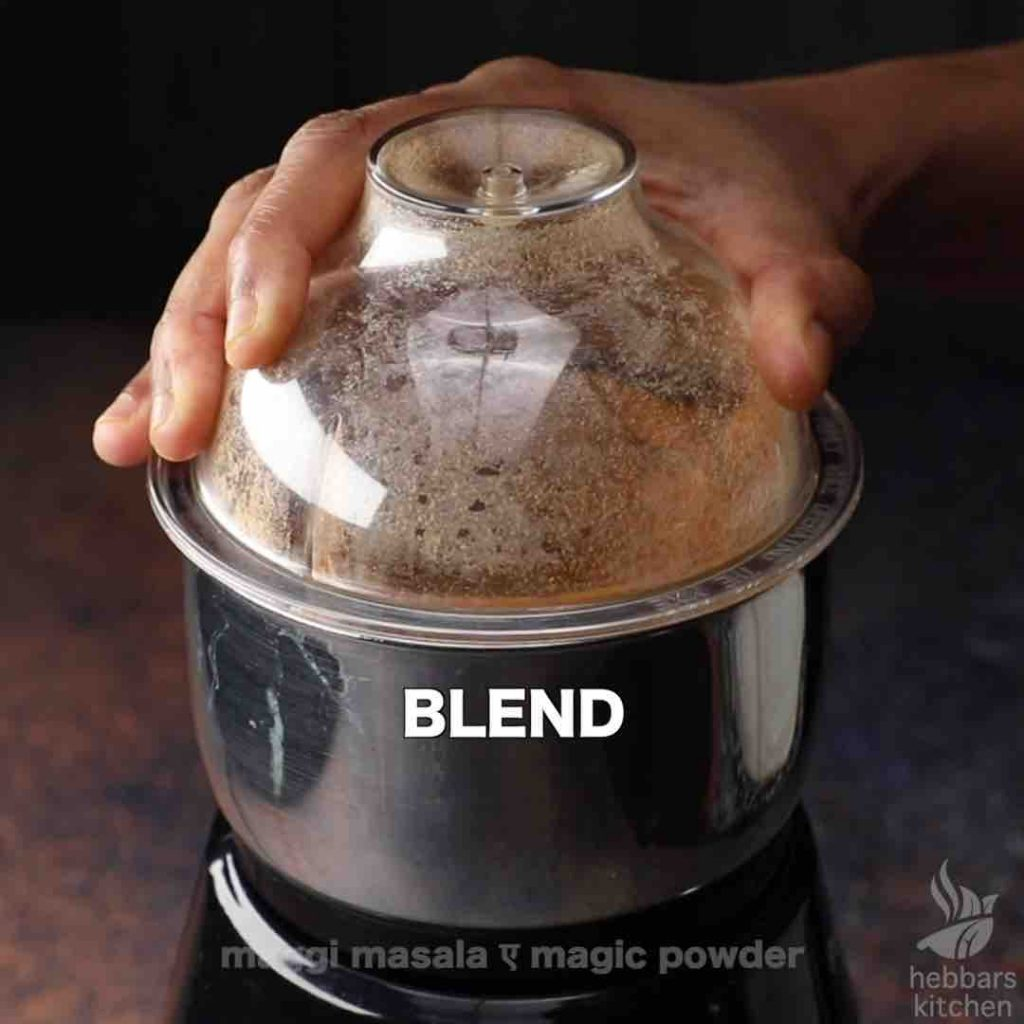Maggi Masala: (51, 51, 973, 973)
